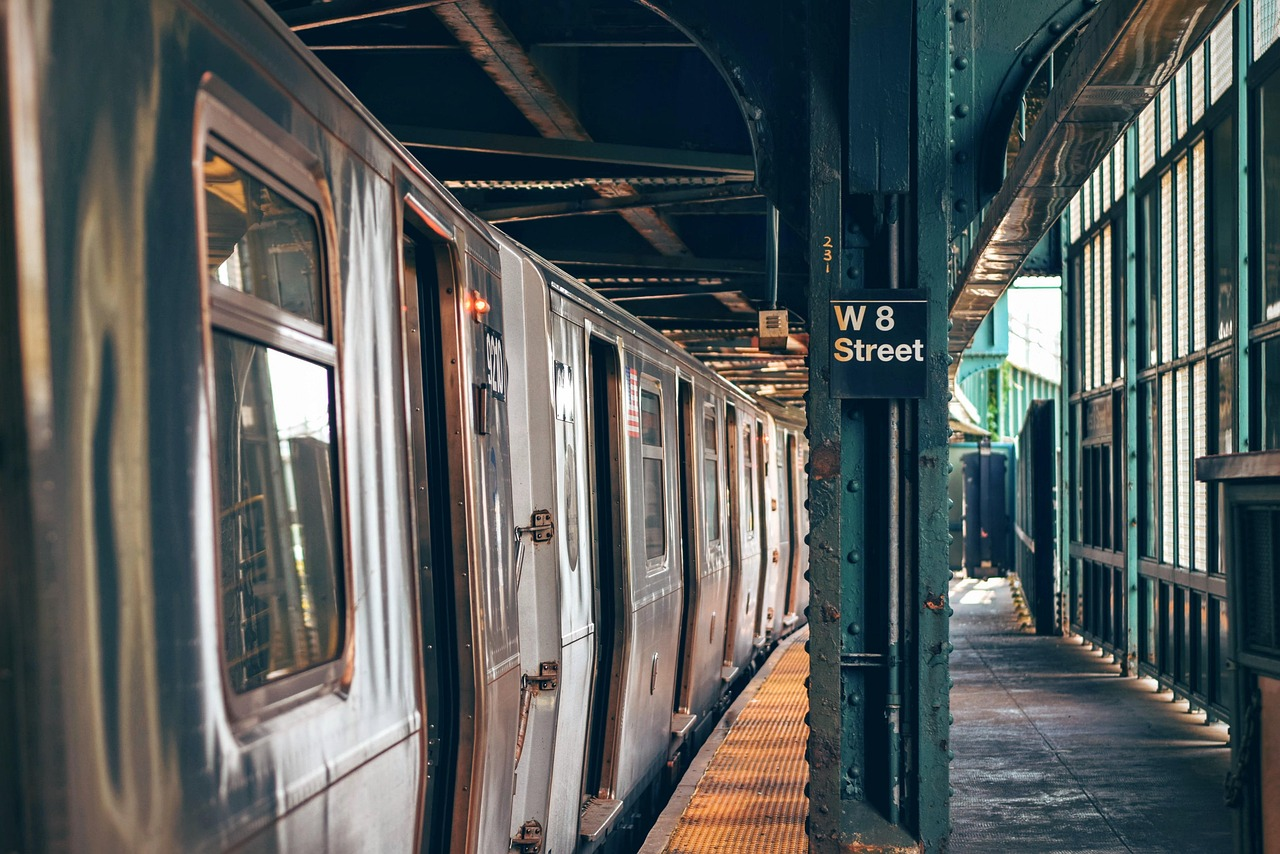train1: (3, 3, 796, 846)
